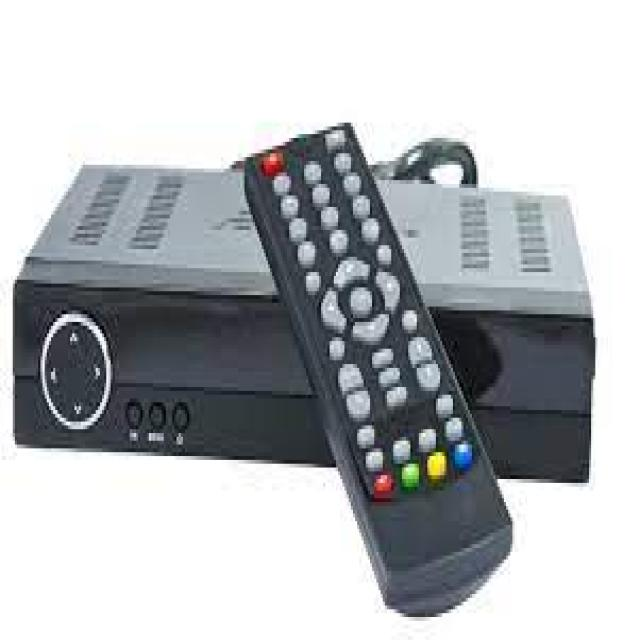remote: (244, 122, 519, 617)
